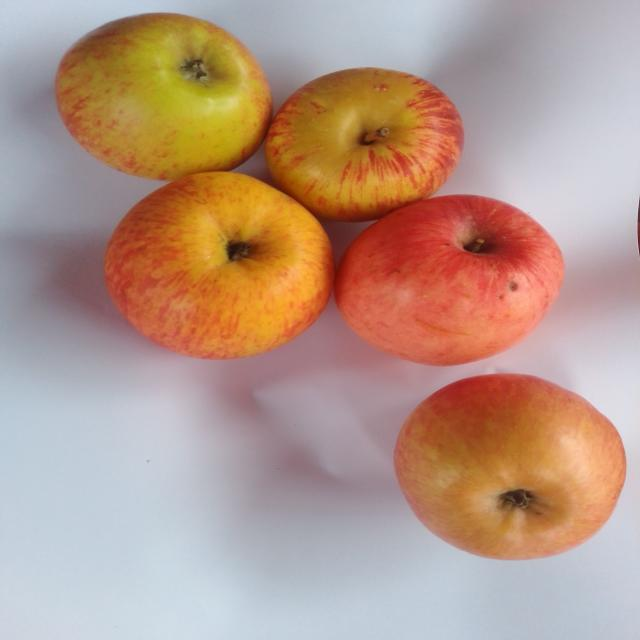apple: (105, 172, 334, 358), (395, 374, 625, 559), (335, 195, 564, 365), (55, 13, 272, 180), (266, 68, 463, 221)
